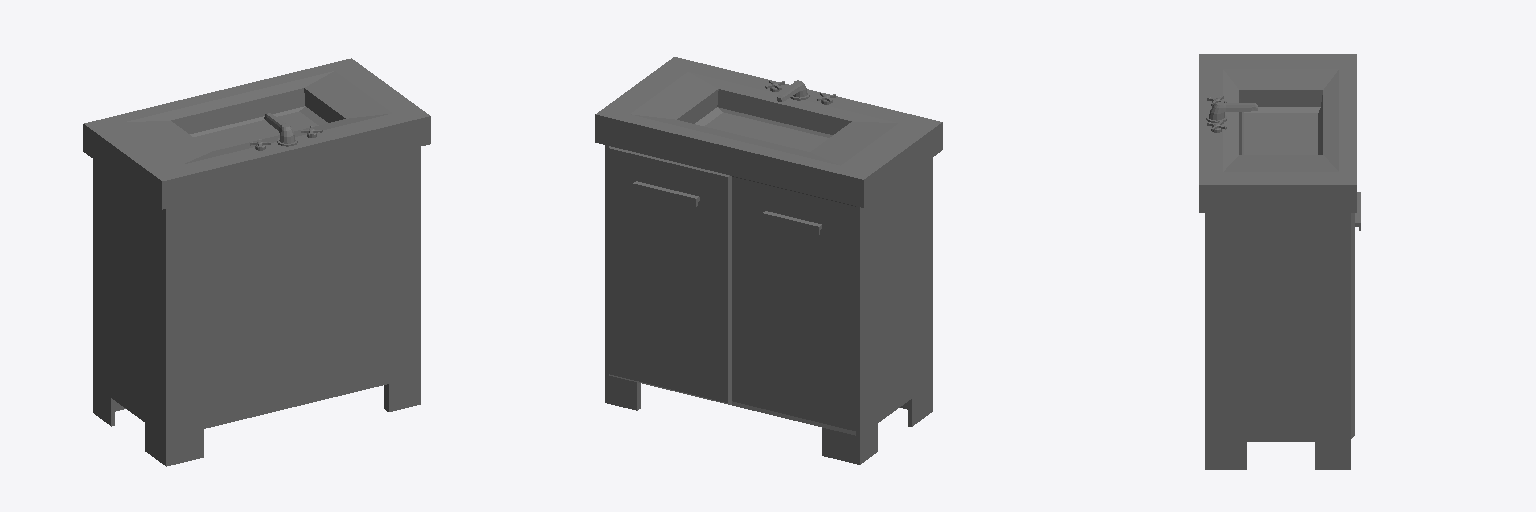
File: Pia_do_banheiro.obj
3 renders of one model, left to right at view 1: azimuth 30°, elevation 25°; view 2: azimuth 150°, elevation 25°; view 3: azimuth 270°, elevation 25°, orthographic.
Parts seen in each view (by area): view 1: Pia_Banheiro2; view 2: Pia_Banheiro2; view 3: Pia_Banheiro2.
Boxes of the visible parts, box(x1,y1,x2,y2) form: Pia_Banheiro2: box(83, 58, 430, 466); Pia_Banheiro2: box(595, 57, 942, 464); Pia_Banheiro2: box(1199, 54, 1360, 469).
Size of the model in its own units: 1.87 by 2.02 by 0.9788.